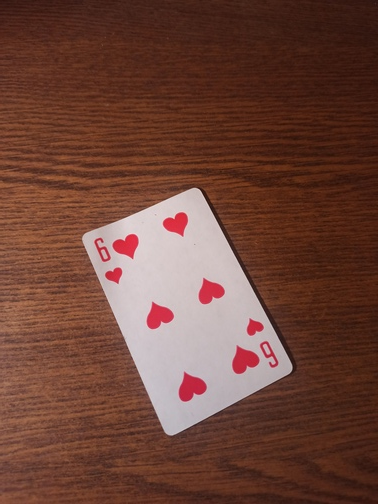sixhearts: (78, 185, 298, 440)
